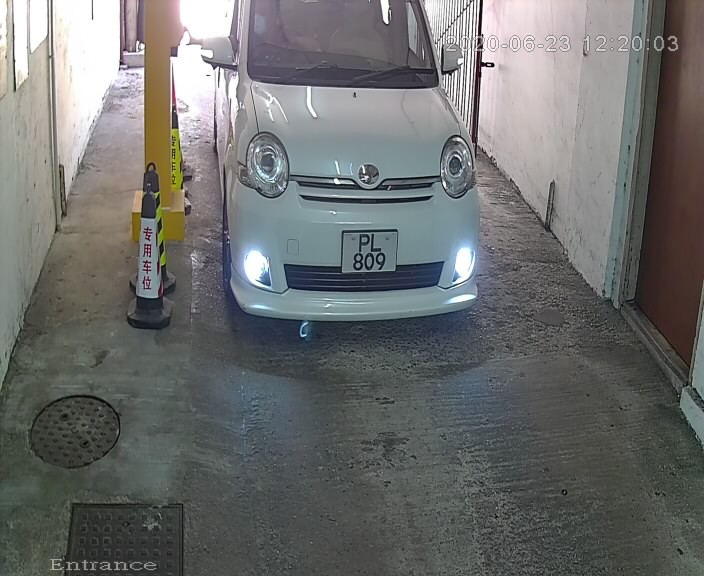privatecar: (189, 1, 516, 359)
